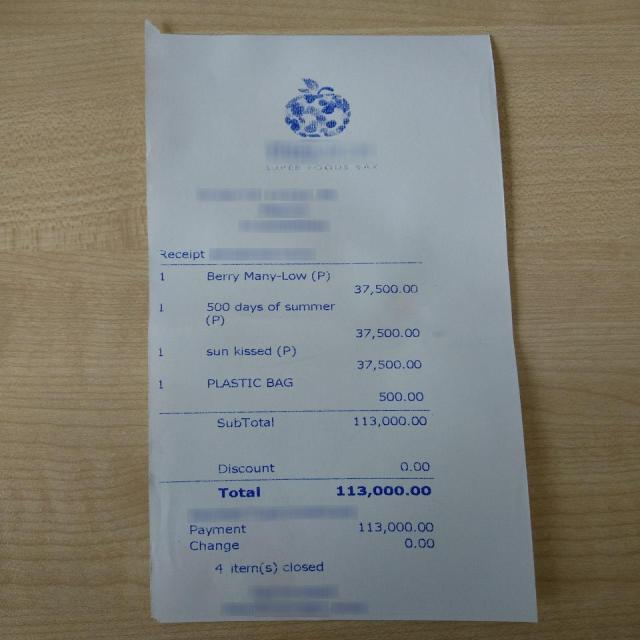kertas: (147, 22, 537, 623)
